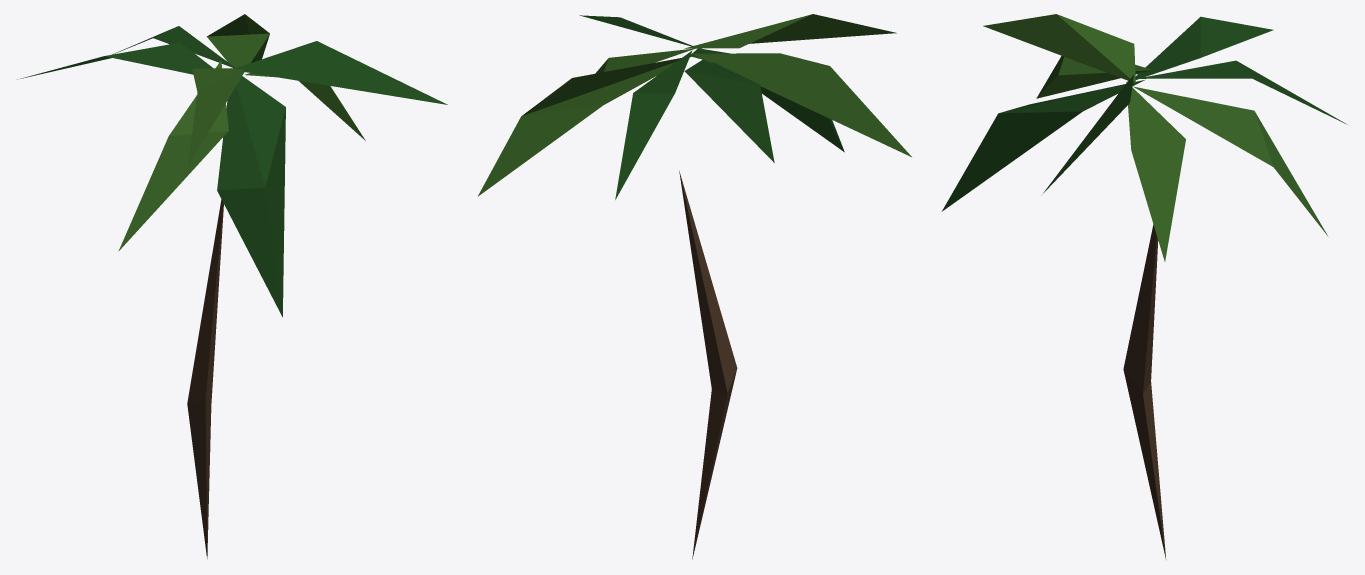
The model's file is palm_b_lod2.glb.
3 renders of one model, left to right at view 1: azimuth 30°, elevation 25°; view 2: azimuth 150°, elevation 25°; view 3: azimuth 270°, elevation 25°, orthographic.
Visible parts, largest first — view 1: palm_b_lod2; view 2: palm_b_lod2; view 3: palm_b_lod2.
Part boxes in pixels (box(x1,y1,x2,y2)): palm_b_lod2: box(17, 14, 447, 558); palm_b_lod2: box(478, 14, 911, 559); palm_b_lod2: box(941, 14, 1347, 559).
Size of the model in its own units: 2.3 by 3.47 by 2.5.
